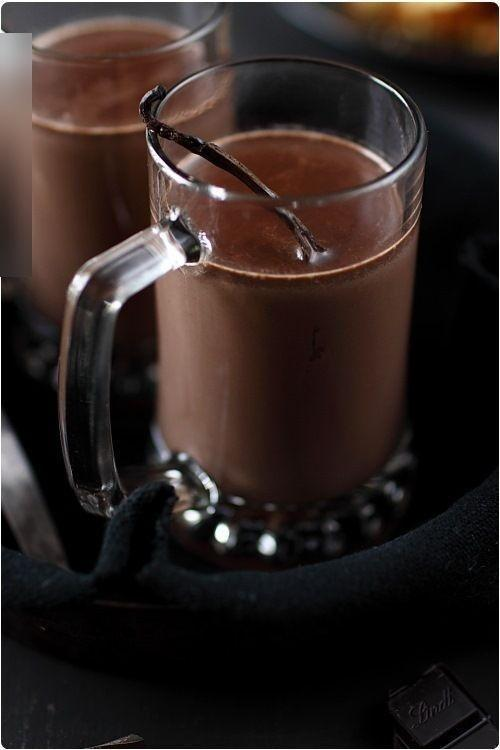glass-mug: (46, 48, 432, 527)
